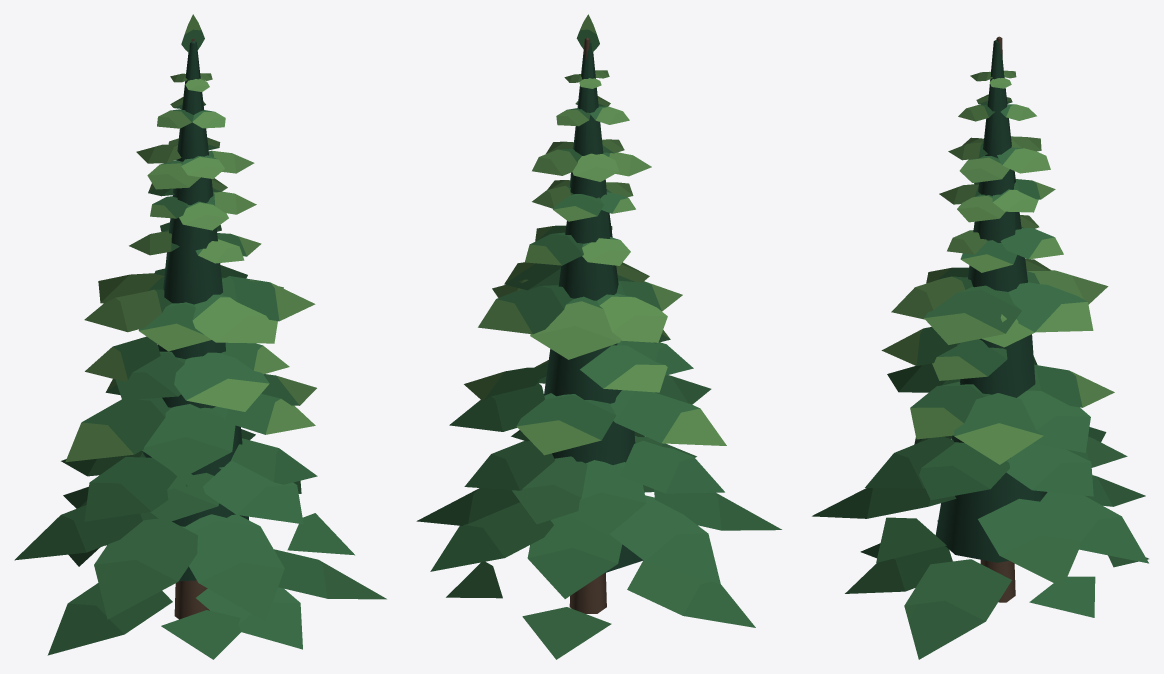
The model's file is SpruceA_LOD.glb.
The picture shows the model from 3 angles, left to right: view 1: azimuth 30°, elevation 25°; view 2: azimuth 150°, elevation 25°; view 3: azimuth 270°, elevation 25°; orthographic projection. The views are drawn at different scales.
Parts seen in each view (by area): view 1: SpruceA_LOD.needleMid, SpruceA_LOD.needleLight, SpruceA_LOD.needleDark, SpruceA_LOD.bark; view 2: SpruceA_LOD.needleMid, SpruceA_LOD.needleLight, SpruceA_LOD.needleDark, SpruceA_LOD.bark; view 3: SpruceA_LOD.needleMid, SpruceA_LOD.needleLight, SpruceA_LOD.needleDark, SpruceA_LOD.bark.
Part boxes in pixels (x1,y1,x2,y2): SpruceA_LOD.needleMid: [14, 29, 386, 659]; SpruceA_LOD.needleLight: [65, 14, 316, 462]; SpruceA_LOD.needleDark: [143, 41, 248, 581]; SpruceA_LOD.bark: [174, 38, 209, 619]; SpruceA_LOD.needleMid: [416, 29, 781, 659]; SpruceA_LOD.needleLight: [464, 14, 726, 455]; SpruceA_LOD.needleDark: [529, 42, 643, 573]; SpruceA_LOD.bark: [569, 38, 606, 613]; SpruceA_LOD.needleMid: [812, 101, 1148, 659]; SpruceA_LOD.needleLight: [881, 70, 1114, 464]; SpruceA_LOD.needleDark: [935, 40, 1047, 562]; SpruceA_LOD.bark: [980, 36, 1015, 602].
Bounding box in the file's own units: 18.28 × 33.7 × 17.79.
